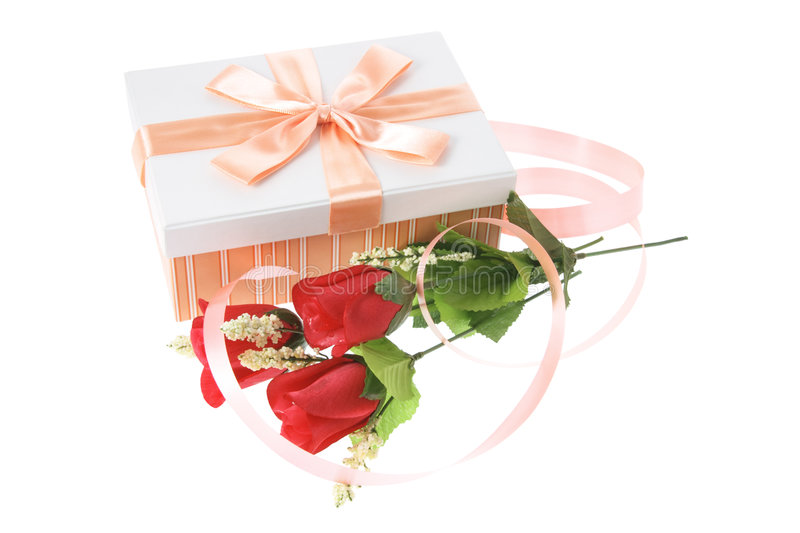RedRose: (269, 357, 423, 465), (290, 258, 444, 357)
